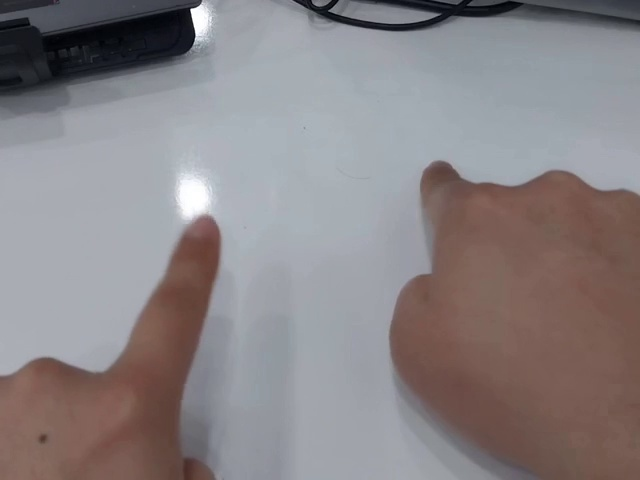fingers: (174, 212, 223, 264), (418, 157, 461, 191)
